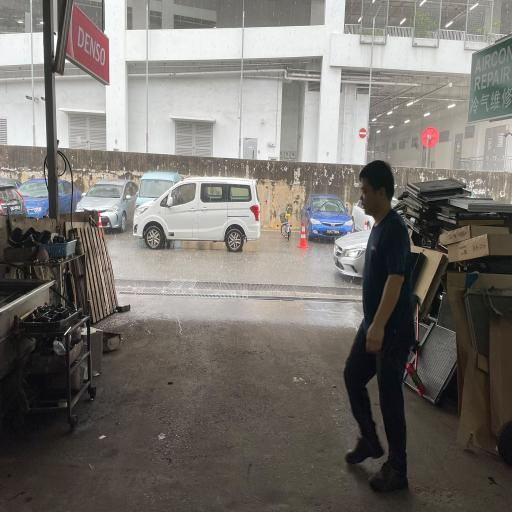person_left: (336, 160, 429, 496)
